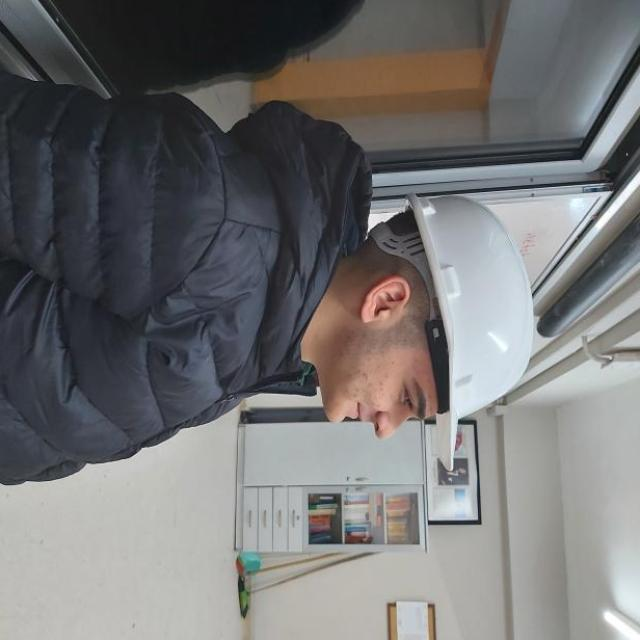helmet: (368, 191, 534, 471)
